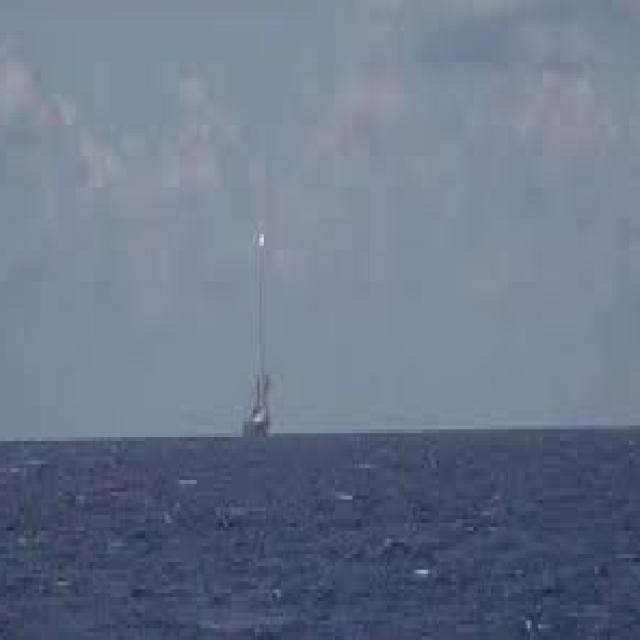fishing boat: (235, 248, 288, 447)
